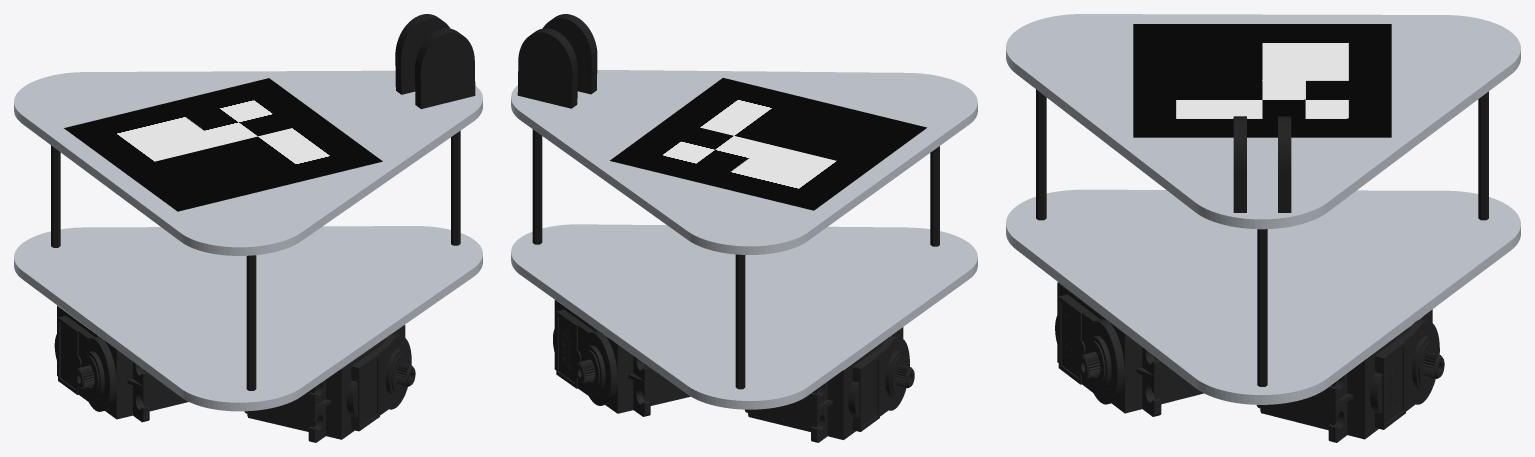
File: hb_frostbite.dae
3 views of the same model, side by side, from view 1: azimuth 30°, elevation 25°; view 2: azimuth 150°, elevation 25°; view 3: azimuth 270°, elevation 25° (orthographic). The views are drawn at different scales.
Parts seen in each view (by area): view 1: hb_bot.001; view 2: hb_bot.001; view 3: hb_bot.001.
Part boxes in pixels (box(x1,y1,x2,y2)): hb_bot.001: box(14, 14, 482, 442); hb_bot.001: box(511, 14, 977, 442); hb_bot.001: box(1006, 14, 1520, 442).
Bounding box in the file's own units: 0.16 × 0.16 × 0.1181.
4 materials, 1 textured.
